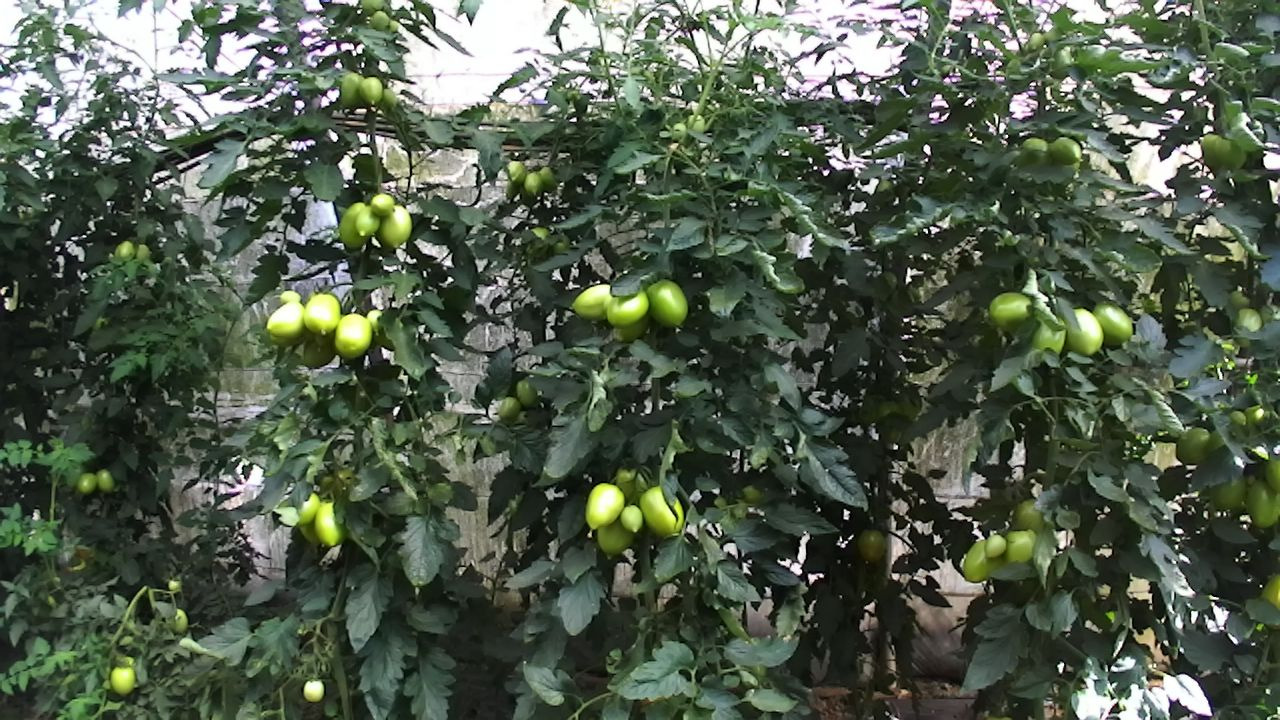tomato: (636, 481, 685, 539), (642, 276, 690, 330), (960, 534, 1008, 586), (1064, 302, 1107, 360), (1090, 297, 1137, 348), (567, 278, 619, 323), (310, 496, 351, 553), (582, 480, 625, 534), (593, 511, 642, 558), (986, 287, 1033, 334), (332, 310, 374, 361), (335, 196, 373, 252), (605, 284, 651, 329), (376, 202, 414, 251), (1244, 479, 1280, 530), (301, 291, 342, 335), (264, 299, 306, 339), (1174, 426, 1214, 466), (854, 524, 886, 564), (353, 203, 383, 238), (107, 662, 136, 698), (1050, 134, 1083, 165), (356, 74, 386, 107), (617, 502, 645, 535), (339, 72, 364, 107), (514, 377, 539, 410), (367, 190, 395, 218), (300, 675, 327, 704), (983, 531, 1008, 561), (498, 394, 521, 423), (74, 471, 100, 496), (94, 466, 116, 495), (522, 170, 545, 197)
